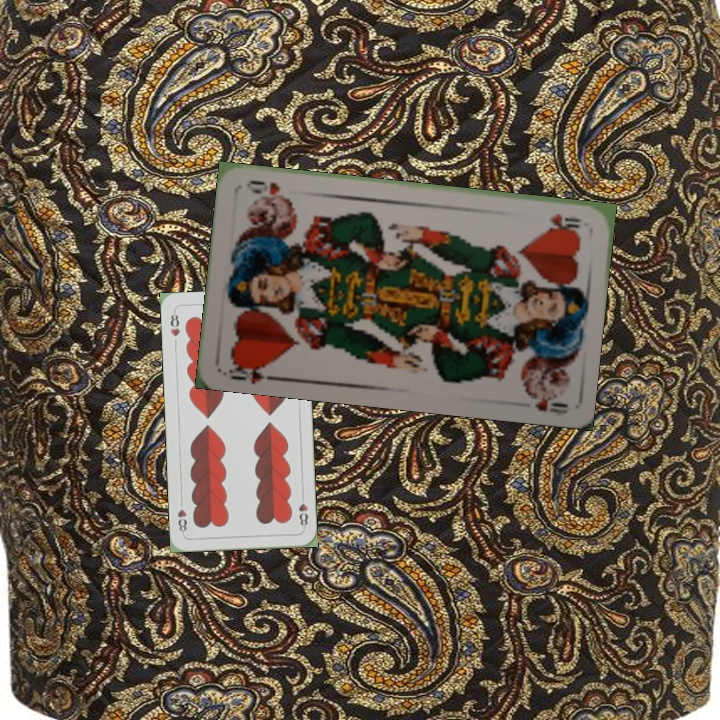H8: (295, 490, 310, 531), (166, 307, 183, 339)
HO: (221, 356, 280, 386), (545, 209, 584, 233)
